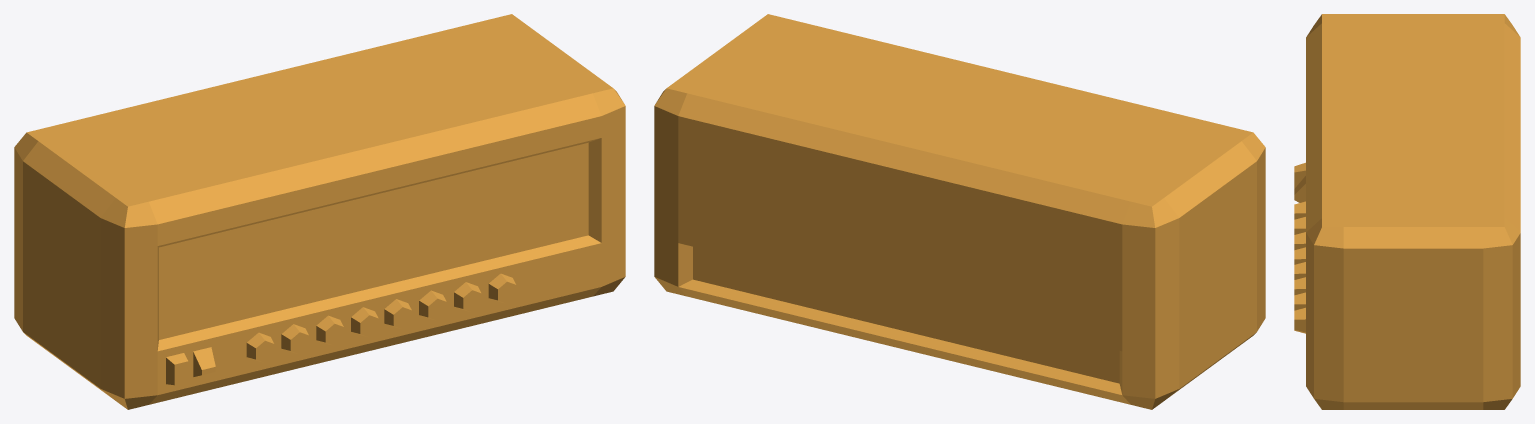
The model's file is speaker-guitar-head.fbx.
3 renders of one model, left to right at view 1: azimuth 30°, elevation 25°; view 2: azimuth 150°, elevation 25°; view 3: azimuth 270°, elevation 25°, orthographic. The views are drawn at different scales.
Visible parts, largest first — view 1: speaker-guitar-head; view 2: speaker-guitar-head; view 3: speaker-guitar-head.
Part boxes in pixels (x1=…): speaker-guitar-head: x1=14, y1=14, x2=625, y2=409; speaker-guitar-head: x1=654, y1=14, x2=1265, y2=409; speaker-guitar-head: x1=1294, y1=14, x2=1520, y2=409.
Size of the model in its own units: 1 by 0.376 by 0.4223.
